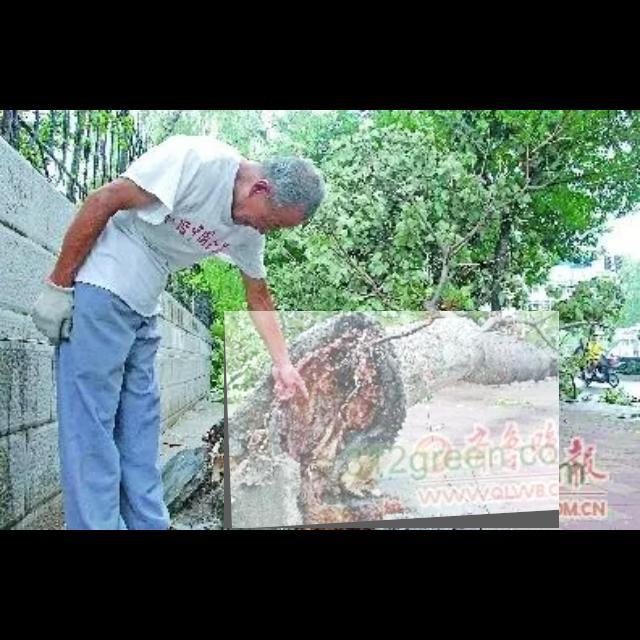fallen_tree: (224, 311, 560, 529)
